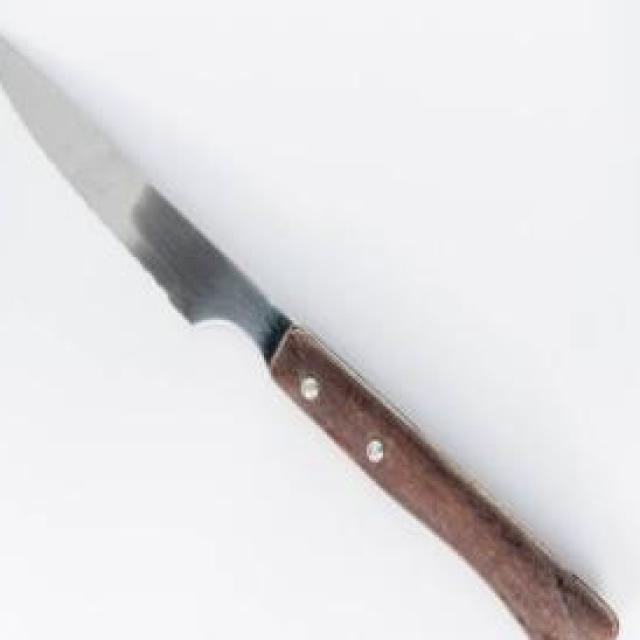knife: (0, 11, 615, 640)
